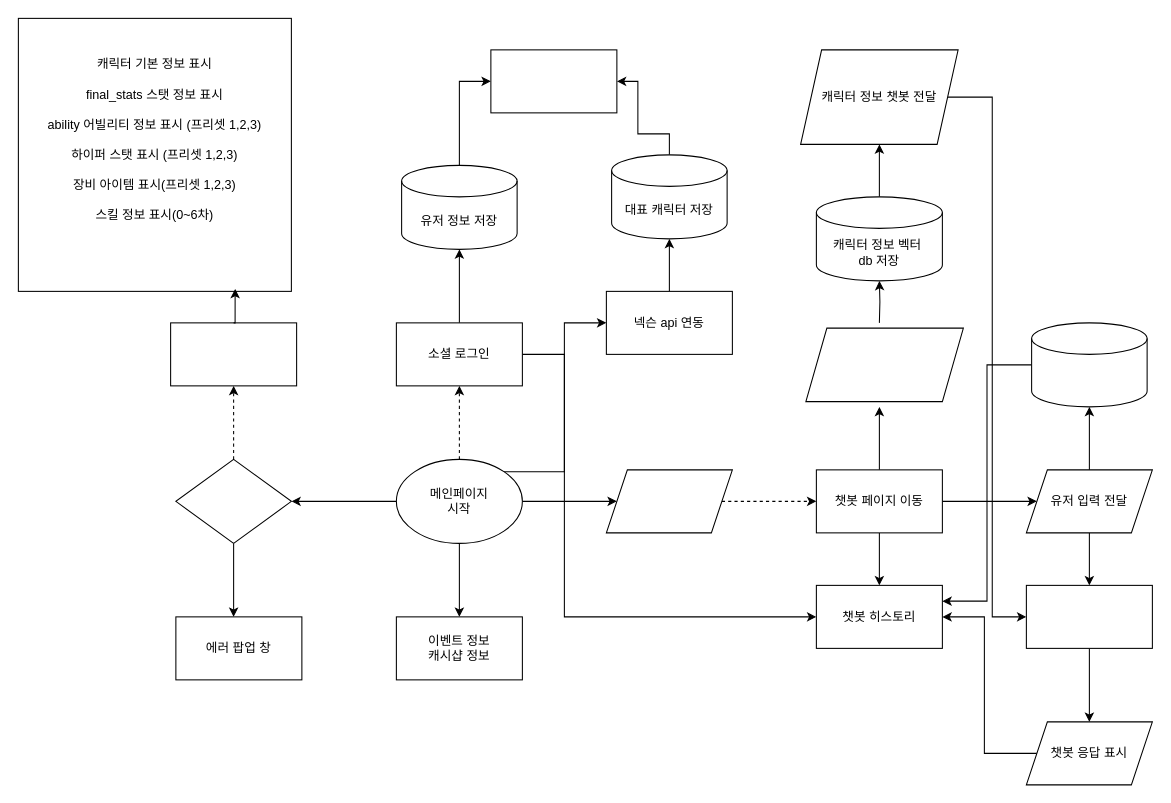
The diagram is 1171 pixels wide and 803 high, and some of its shapes have lost their labels. The centre of each missing label's shape, as x and y in pixels:
"메이플 캐릭터 소셜 로그인 연동" goes at pixel 553 81.
"유저 메세지 입력" goes at pixel 668 501.
"채팅 정보 db 저장" goes at pixel 1089 364.
"챗봇 응답 생성" goes at pixel 1088 616.
"캐릭터 검색 시작" goes at pixel 233 500.
"캐릭터 정보 검색" goes at pixel 884 364.
"캐릭터 정보 페이지 이동" goes at pixel 233 354.
